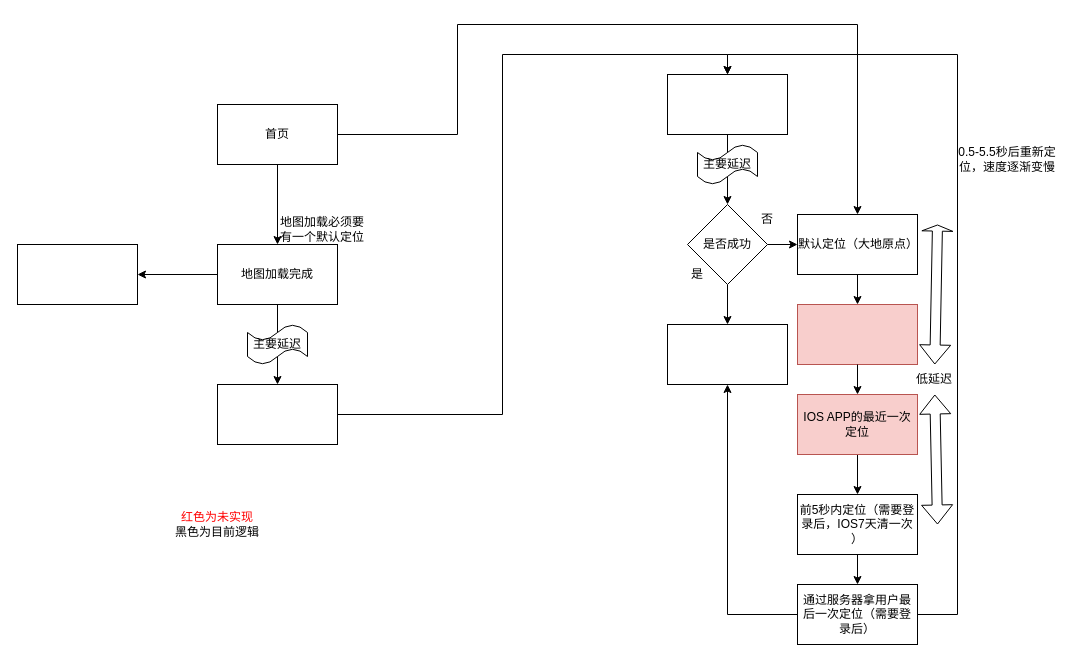
This 1085x662 diagram has some shape labels left out. The shapes that lost their labels are listed below. From the top down, each one's centre as x and y in pixels, then its label:
point (727, 104): APP或者高德定位
point (77, 274): 欢迎页消失
point (727, 354): 定位结果
point (857, 334): 前端本地定位（IOS7天清一次）
point (277, 414): 登录完成
